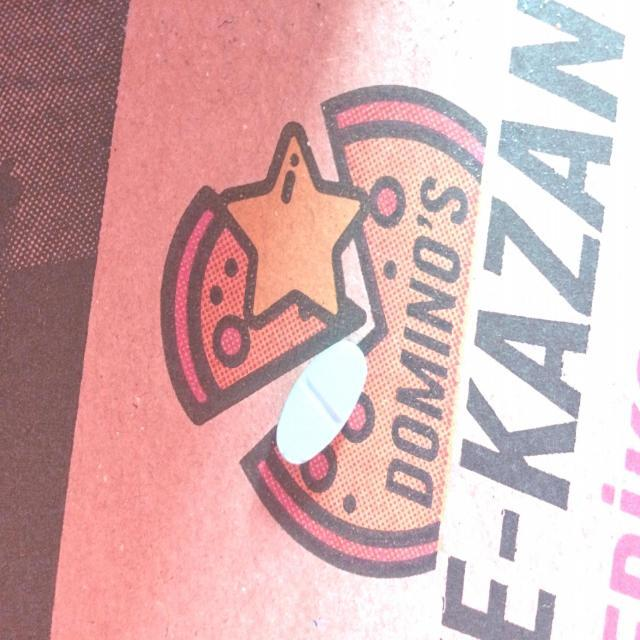pill: (276, 340, 368, 470)
